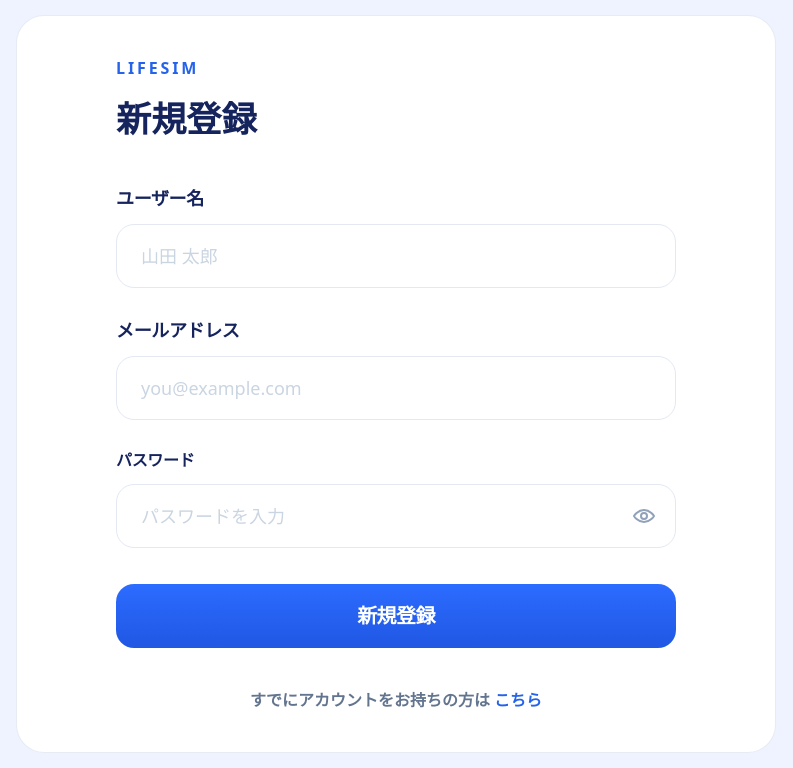
it: SignupPage › 【異常系】名前未入力で送信した場合はバリデーションエラーが表示されること
Click the button "新規登録" at (396, 616), box top-left (116, 584), bottom-right (676, 648)
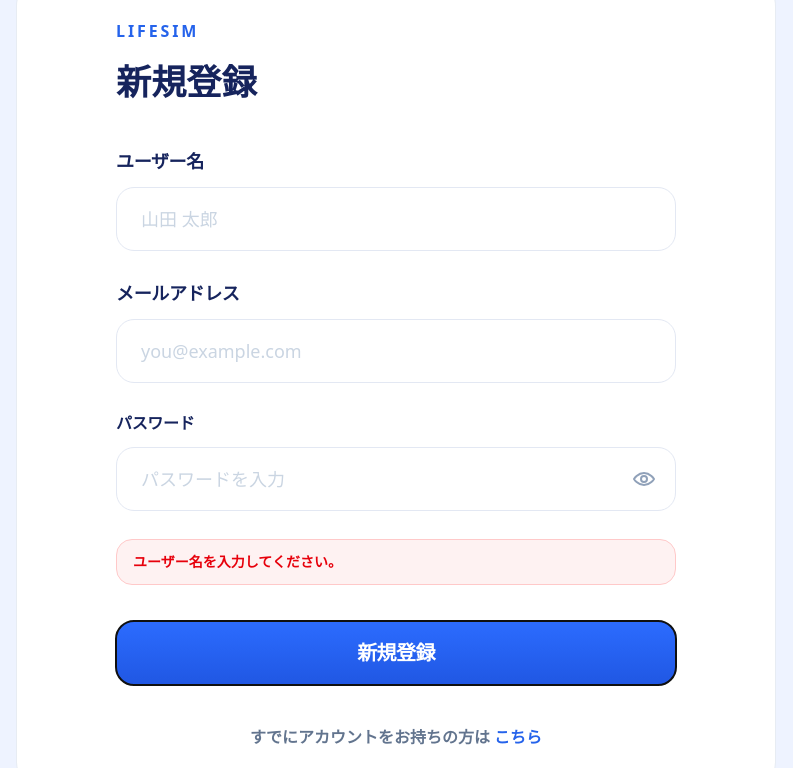
Expected: the text "ユーザー名を入力してください。" is shown, top-left (116, 539), bottom-right (676, 585)
